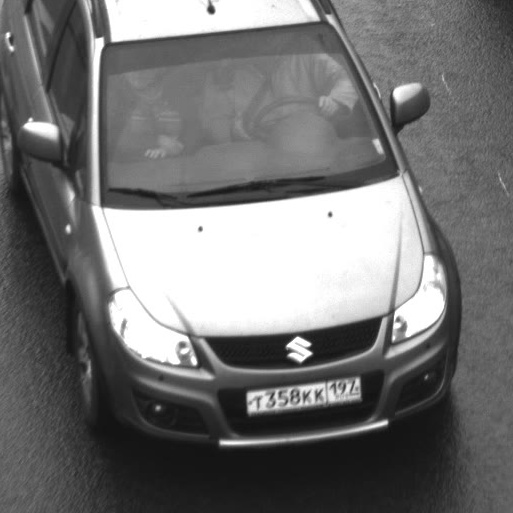plate: (235, 365, 369, 422)
